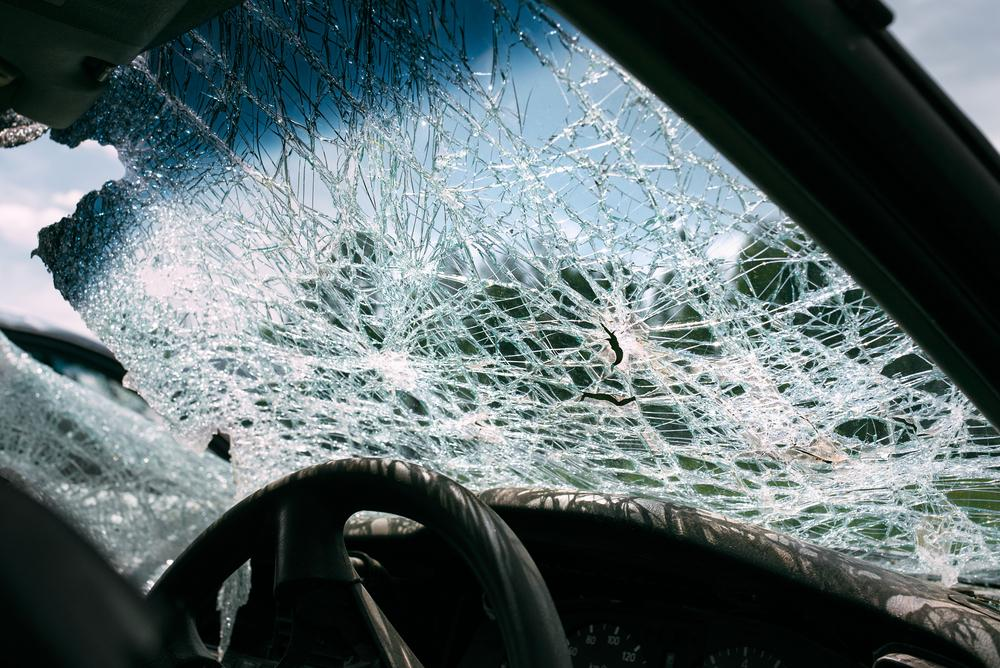glass shatter: (0, 0, 1000, 617)
